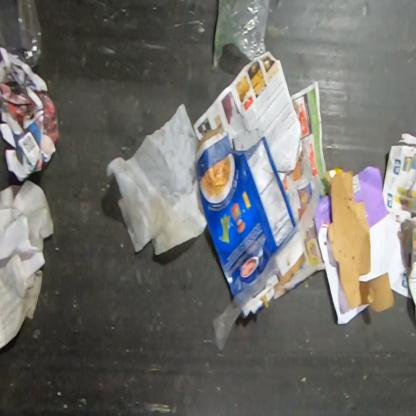cardboard: (195, 120, 296, 297), (324, 166, 396, 314), (240, 251, 307, 320)
rigid_plastic: (16, 0, 44, 69)
soft_plastic: (212, 175, 322, 353), (210, 0, 272, 71)
